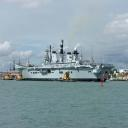Portanaves: (14, 40, 116, 86)
